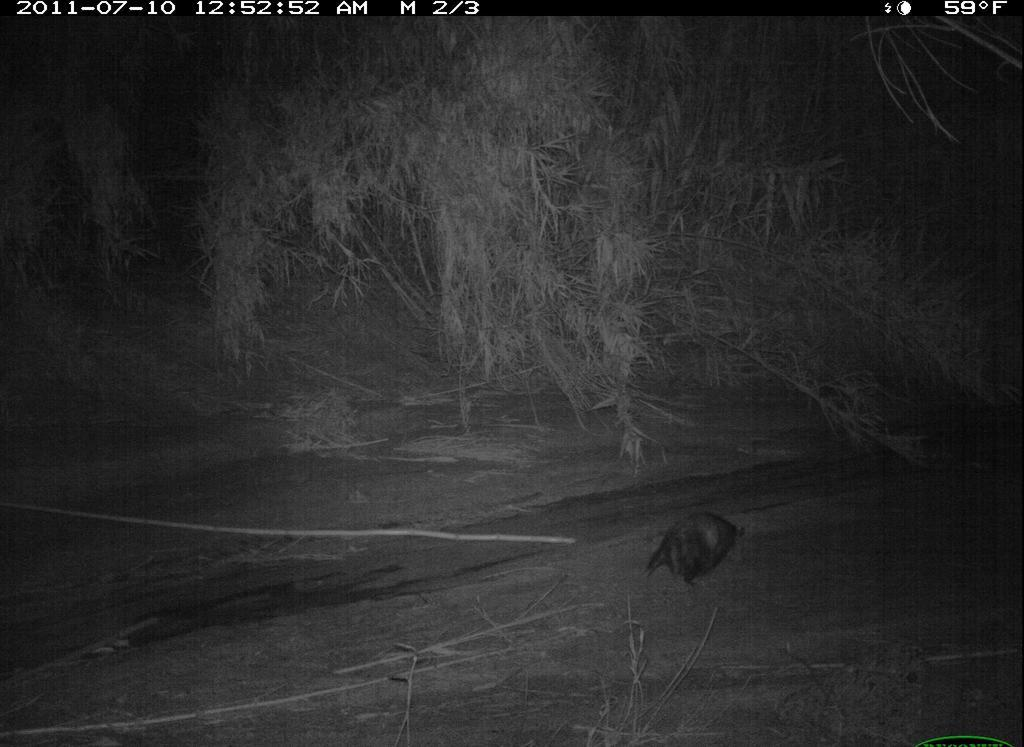opossum: (638, 502, 757, 606)
